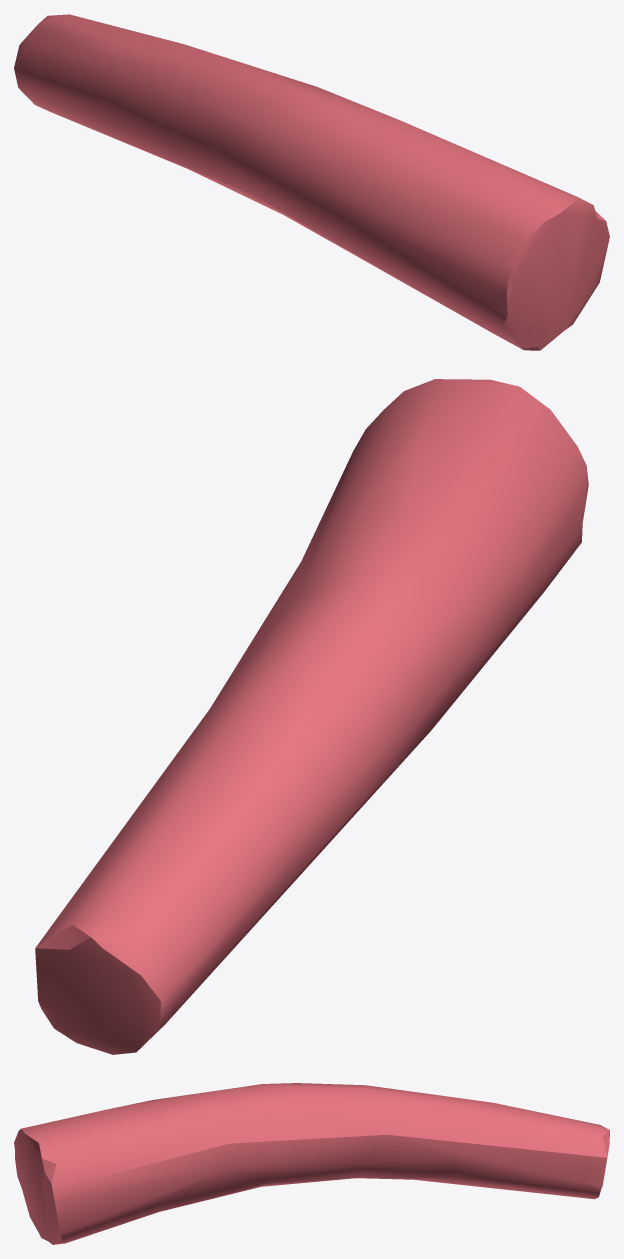
Rendered from fma68673_fj2972.glb.
The picture shows the model from 3 angles, top to bottom: view 1: azimuth 30°, elevation 25°; view 2: azimuth 150°, elevation 25°; view 3: azimuth 270°, elevation 25°; orthographic projection. The views are drawn at different scales.
Parts seen in each view (by area): view 1: FMA68673_FJ2972; view 2: FMA68673_FJ2972; view 3: FMA68673_FJ2972.
Part boxes in pixels (<box>): FMA68673_FJ2972: <box>14,14,609,350</box>; FMA68673_FJ2972: <box>35,379,588,1054</box>; FMA68673_FJ2972: <box>14,1083,609,1244</box>.
Bounding box in the file's own units: 0.00369 × 0.00244 × 0.0108.
